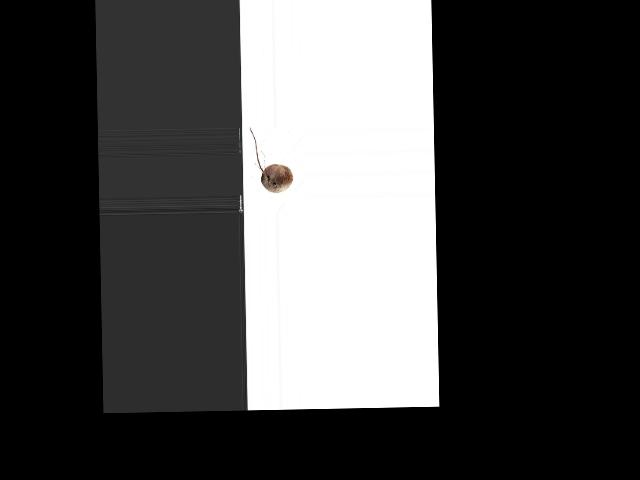beet: (249, 126, 292, 192)
